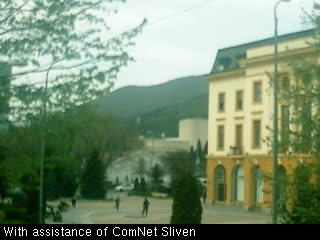person: (141, 198, 149, 217), (114, 196, 121, 211), (71, 195, 77, 209), (202, 189, 207, 204)
